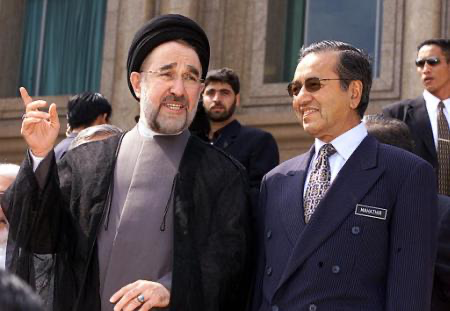Face: (142, 54, 202, 137), (285, 63, 340, 137), (416, 46, 445, 92), (202, 80, 235, 118)
